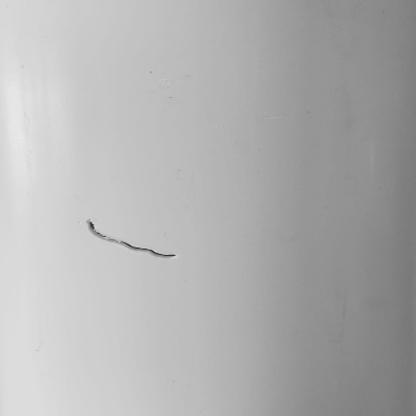fengxi: (85, 217, 175, 259)
